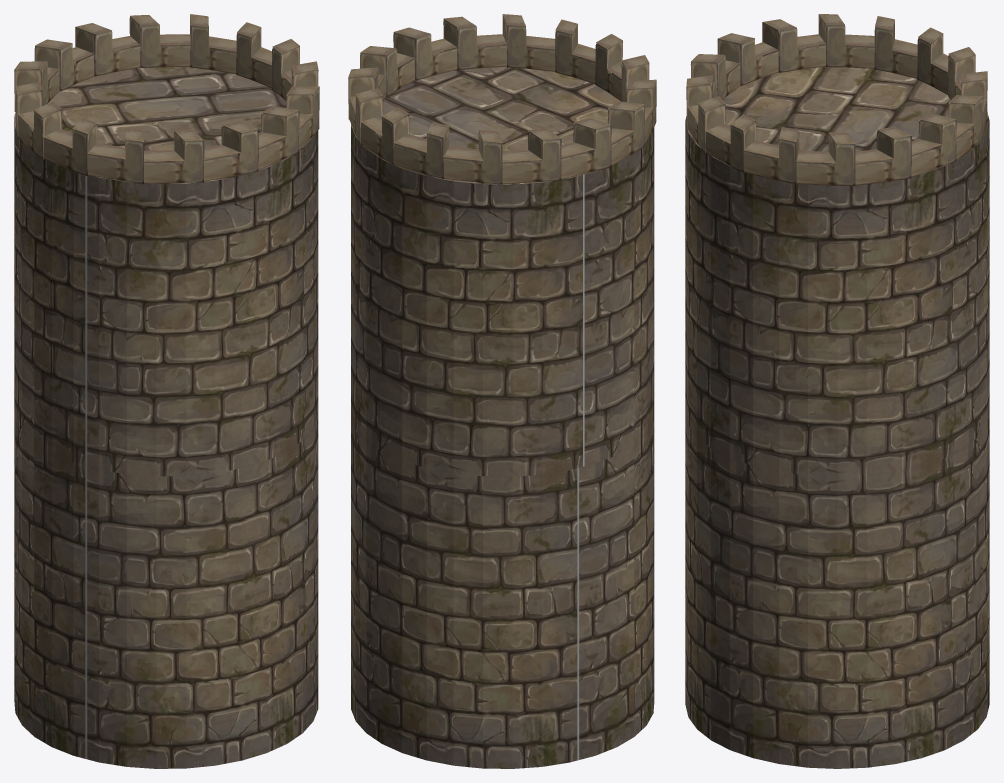
The model's file is modelos.fbx.
The picture shows the model from 3 angles, left to right: view 1: azimuth 30°, elevation 25°; view 2: azimuth 150°, elevation 25°; view 3: azimuth 270°, elevation 25°; orthographic projection.
Visible parts, largest first — view 1: torre; view 2: torre; view 3: torre.
Part boxes in pixels (x1,y1,x2,y2): torre: [14, 14, 319, 768]; torre: [348, 14, 656, 768]; torre: [685, 14, 989, 768].
Bounding box in the file's own units: 819 × 1839 × 809.
